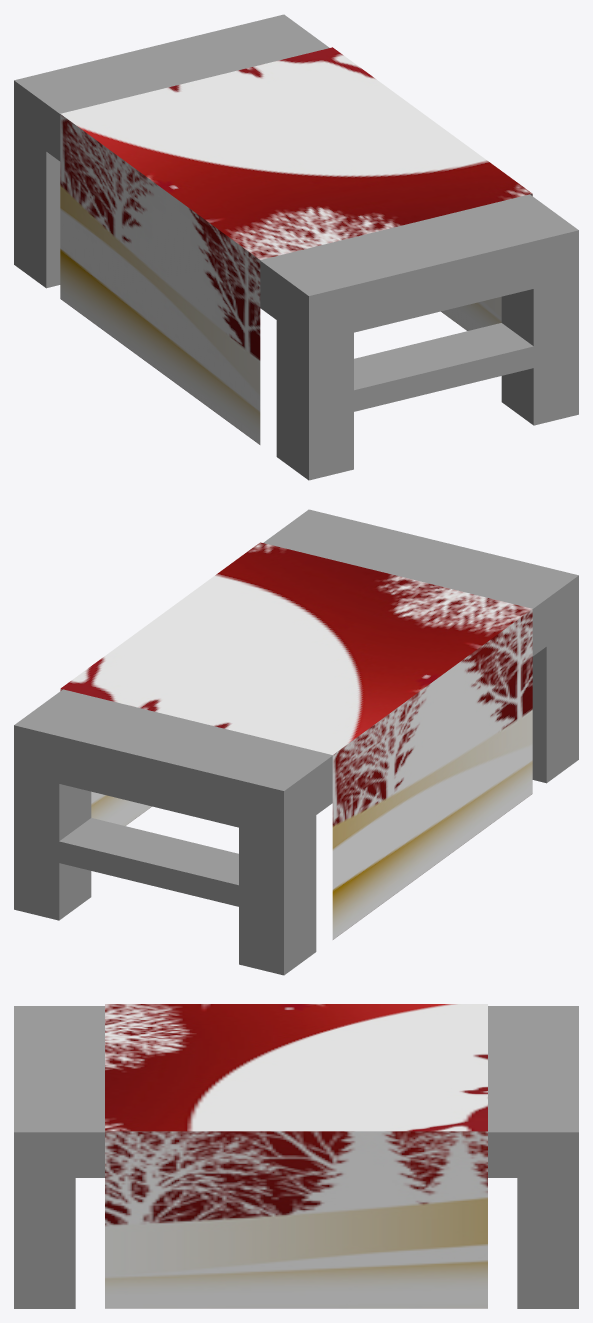
File: Table_ClothFBX 1.fbx
The picture shows the model from 3 angles, top to bottom: view 1: azimuth 30°, elevation 25°; view 2: azimuth 150°, elevation 25°; view 3: azimuth 270°, elevation 25°; orthographic projection. The views are drawn at different scales.
Parts seen in each view (by area): view 1: cloth, table; view 2: cloth, table; view 3: cloth, table.
Boxes of the visible parts, left/top/right/bottom form: cloth: left=60, top=47, right=532, bottom=444; table: left=14, top=14, right=578, bottom=480; cloth: left=60, top=542, right=532, bottom=939; table: left=14, top=509, right=578, bottom=975; cloth: left=105, top=1004, right=487, bottom=1308; table: left=14, top=1006, right=578, bottom=1308.
Bounding box in the file's own units: 240 × 157 × 450.
